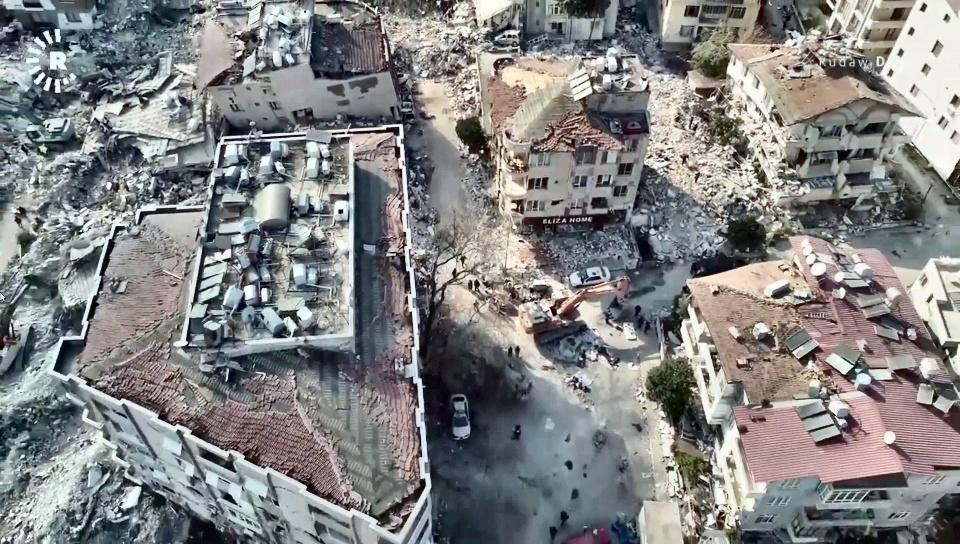kapali: (409, 0, 483, 127)
